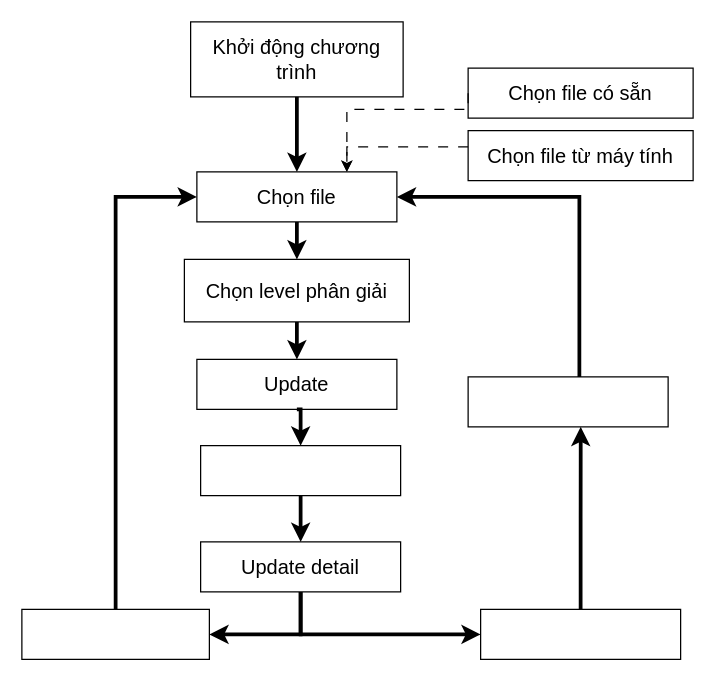
Image size: 715x681. Some labels were removed from this diagram. Each missing label, with the centre of its shape:
"Chọn threshold" goes at pixel 300 470.
"Create edges" goes at pixel 115 633.
"Evaluate" goes at pixel 567 401.
"Reconstruct" goes at pixel 580 633.
